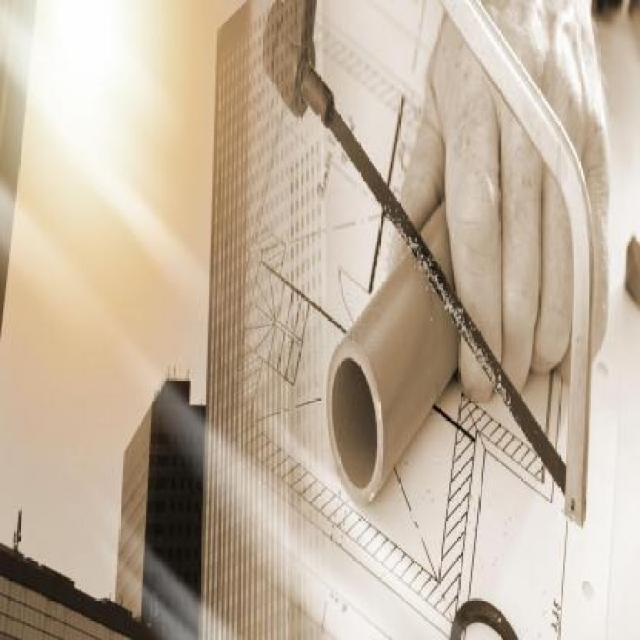pipe: (326, 340, 383, 505)
